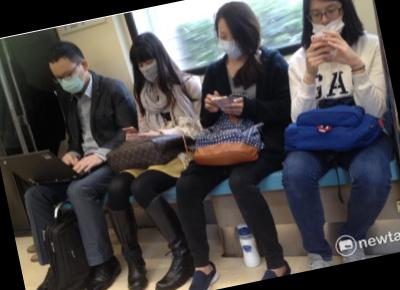mask_weared_incorrect: (307, 0, 347, 40)
with_mask: (50, 63, 92, 97), (215, 24, 245, 63), (135, 53, 164, 85)
